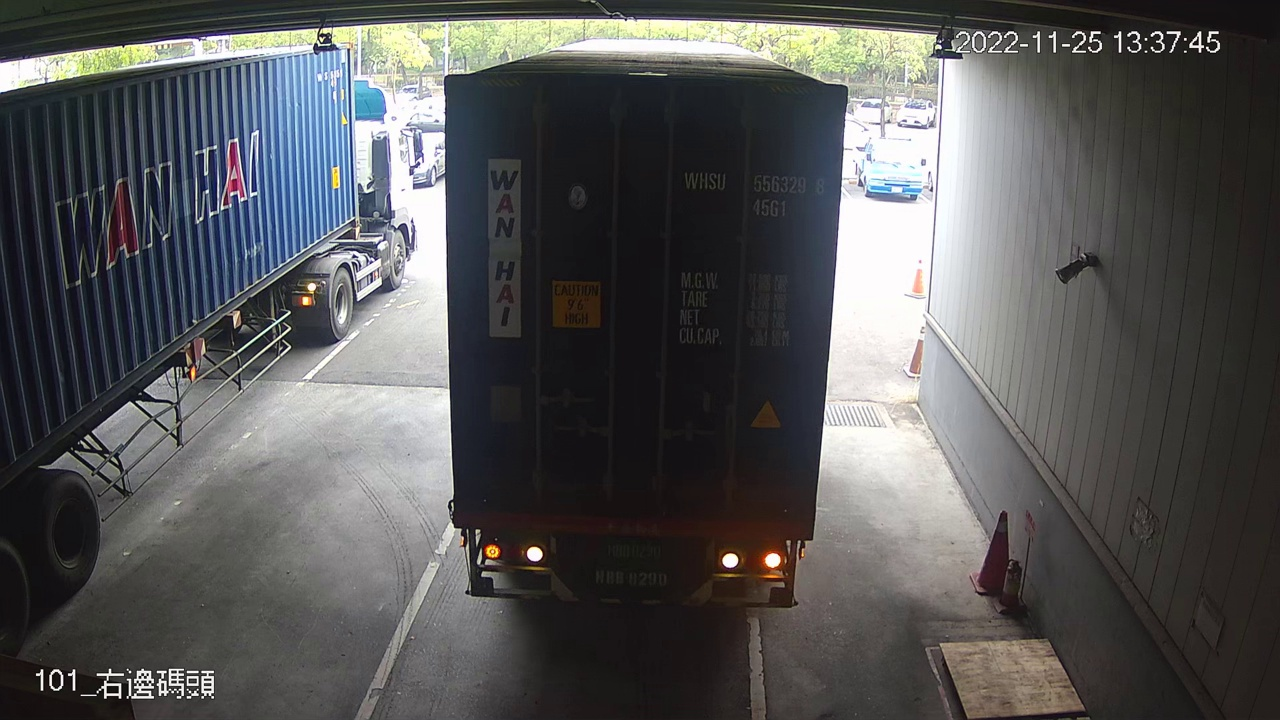container: (677, 163, 833, 222)
